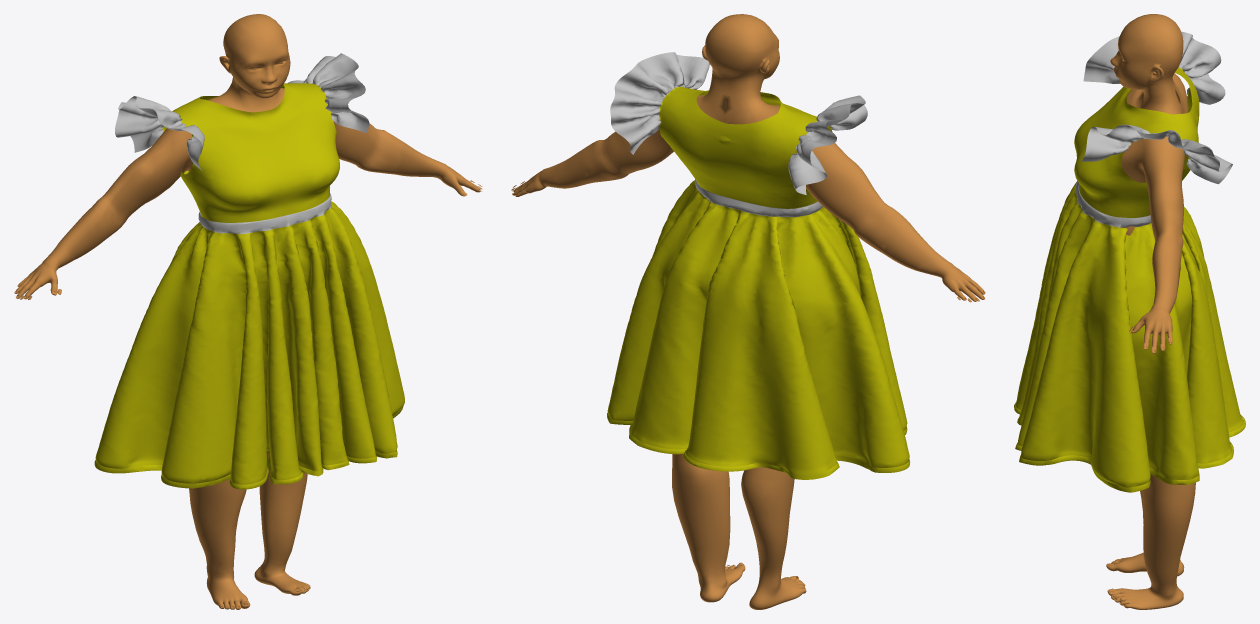
Rendered from dress10.glb.
The picture shows the model from 3 angles, left to right: view 1: azimuth 30°, elevation 25°; view 2: azimuth 150°, elevation 25°; view 3: azimuth 270°, elevation 25°; orthographic projection.
Parts seen in each view (by area): view 1: PinkDrees#14 (OBJ), Body; view 2: PinkDrees#14 (OBJ), Body; view 3: PinkDrees#14 (OBJ), Body.
Boxes of the visible parts, x1,y1,x2,y2 form: PinkDrees#14 (OBJ): (94, 53, 404, 489); Body: (14, 14, 481, 609); PinkDrees#14 (OBJ): (607, 52, 910, 479); Body: (512, 14, 985, 609); PinkDrees#14 (OBJ): (1014, 31, 1245, 492); Body: (1106, 14, 1195, 609).
Size of the model in its own units: 1.59 by 1.88 by 0.6849.
